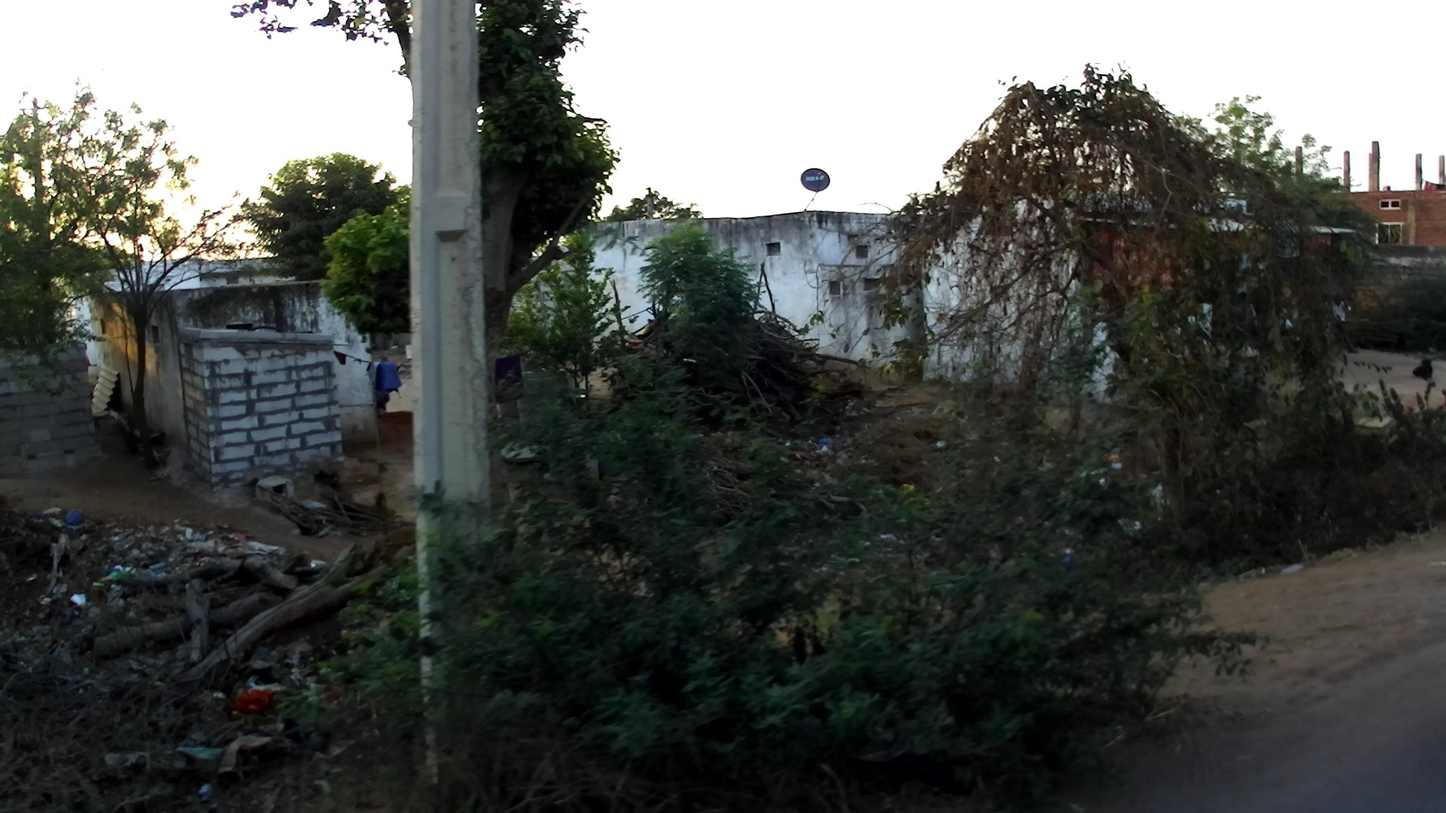animal: (1413, 358, 1432, 382)
person: (1332, 294, 1361, 355)
